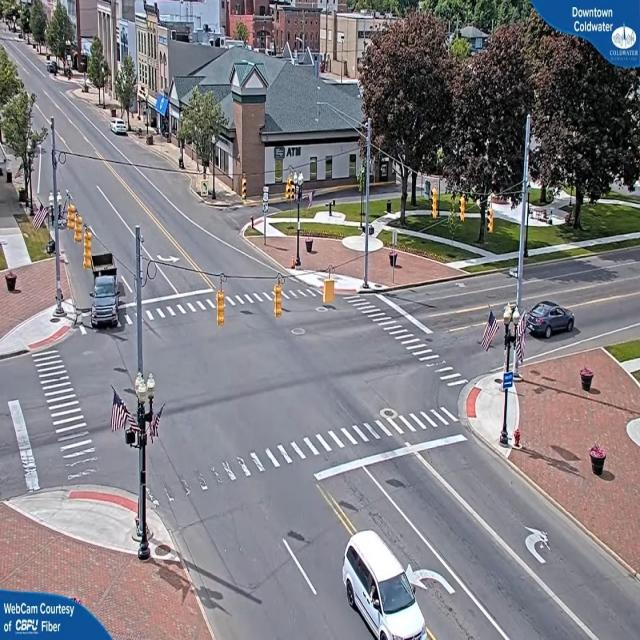car: (344, 534, 432, 639), (524, 298, 578, 339), (91, 274, 117, 331), (112, 120, 130, 136)
